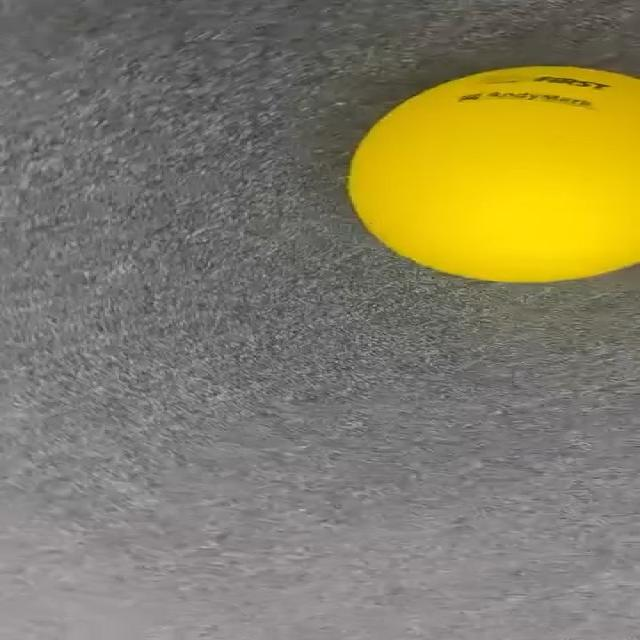Fuels: (346, 63, 640, 283)
